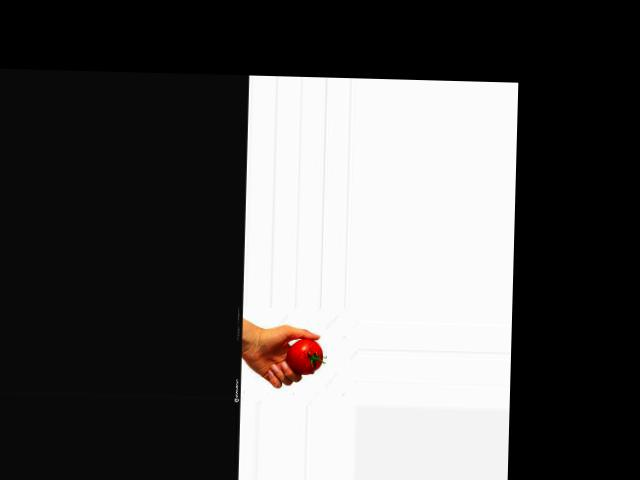tomato: (286, 338, 323, 374)
